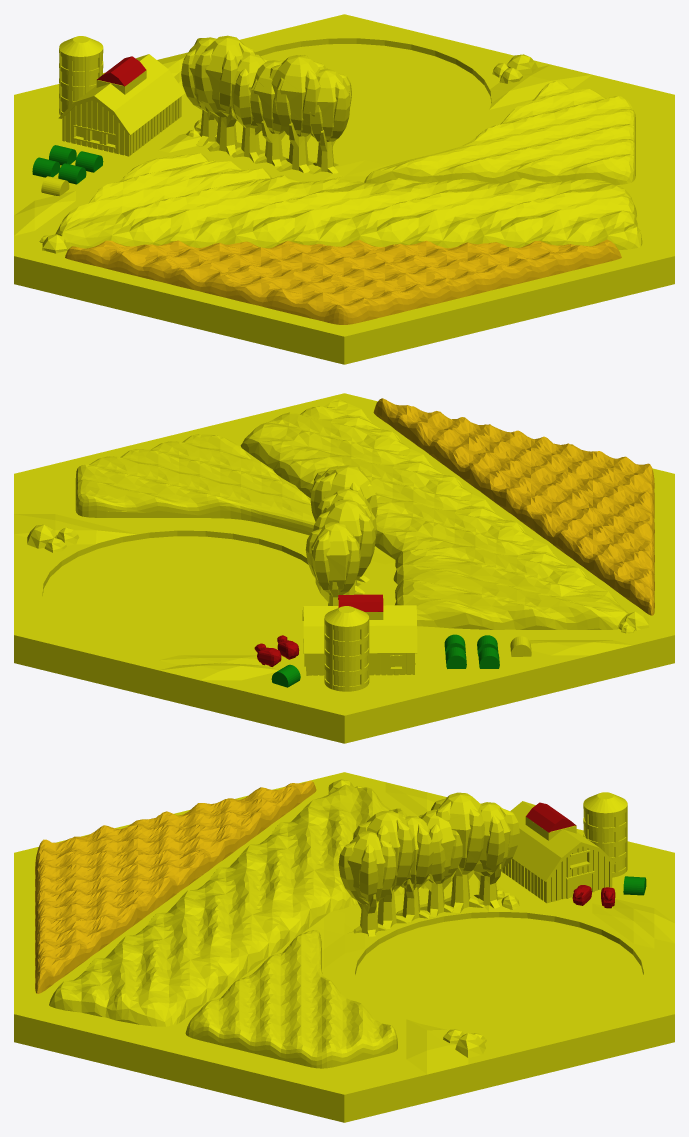
Rendered from wheet.glb.
3 views of the same model, one above another, from view 1: azimuth 30°, elevation 25°; view 2: azimuth 150°, elevation 25°; view 3: azimuth 270°, elevation 25° (orthographic).
Visible parts, largest first — view 1: wheet; view 2: wheet; view 3: wheet.
Boxes of the visible parts, x1,y1,x2,y2 form: wheet: (14,14,674,364); wheet: (14,393,674,743); wheet: (14,772,674,1122).
Bounding box in the file's own units: 74 × 14.73 × 64.07.
